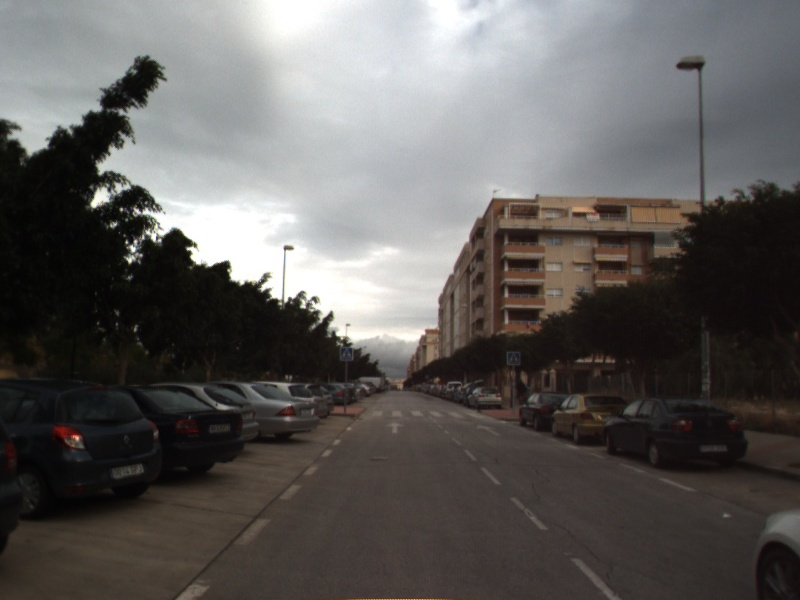STRAIGHT: (474, 422, 504, 438), (384, 419, 407, 435)
